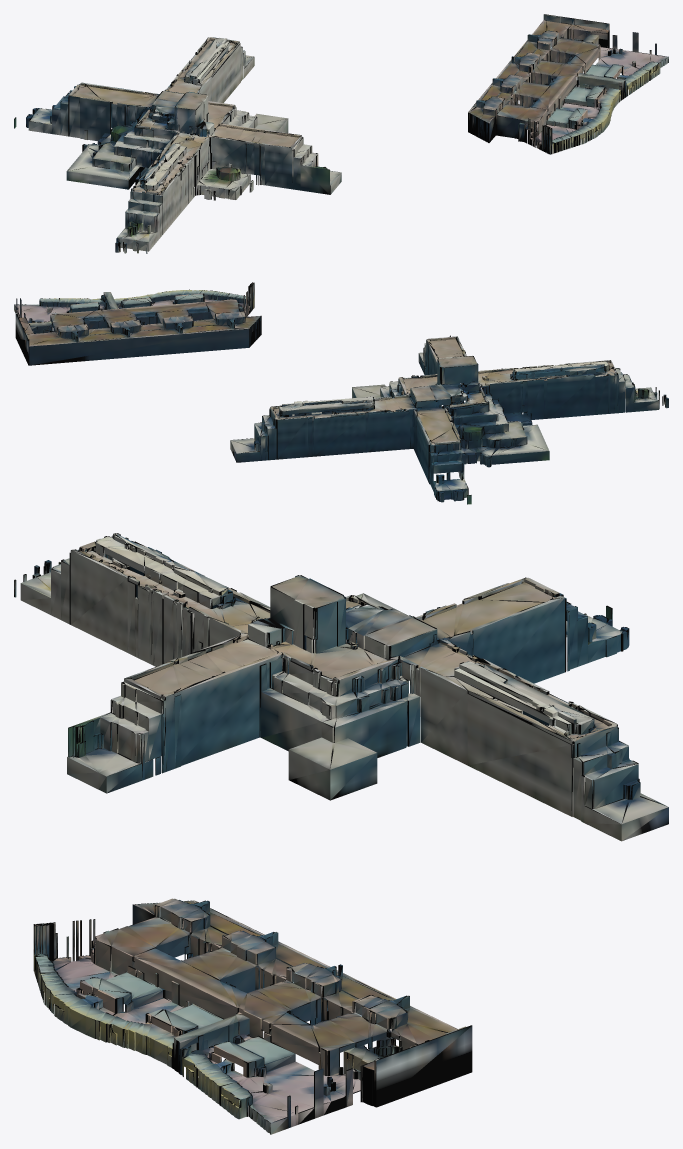
The model's file is measured-buildings.glb.
The picture shows the model from 3 angles, top to bottom: view 1: azimuth 30°, elevation 25°; view 2: azimuth 150°, elevation 25°; view 3: azimuth 270°, elevation 25°; orthographic projection. The views are drawn at different scales.
Parts seen in each view (by area): view 1: R162_MEASURED_ENVELOPE; view 2: R162_MEASURED_ENVELOPE; view 3: R162_MEASURED_ENVELOPE.
Part boxes in pixels (x1,y1,x2,y2): R162_MEASURED_ENVELOPE: (14,14,668,253); R162_MEASURED_ENVELOPE: (14,282,668,504); R162_MEASURED_ENVELOPE: (14,533,668,1134).
Bounding box in the file's own units: 310 × 32.91 × 156.
Materials: 1 (1 with a texture image).
